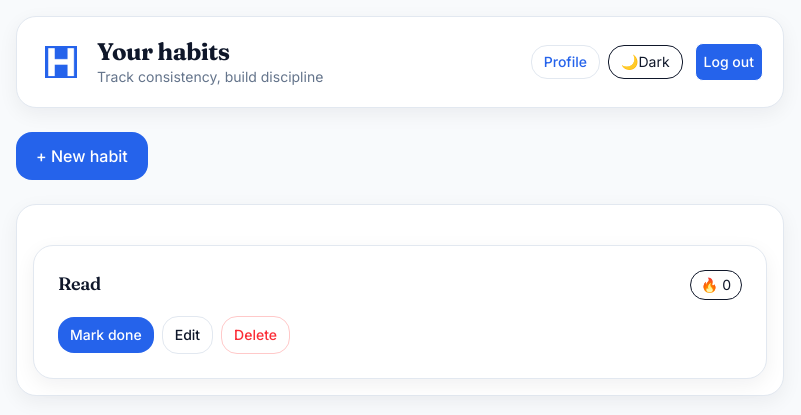
Test case: habit form › toggles completion and updates the streak display
Expected: the text with test id "habit-streak-read" shows "0", [722,276,731,293]
Click the button with test id "habit-complete-read".
click(106, 335)  # box [58,317,154,353]
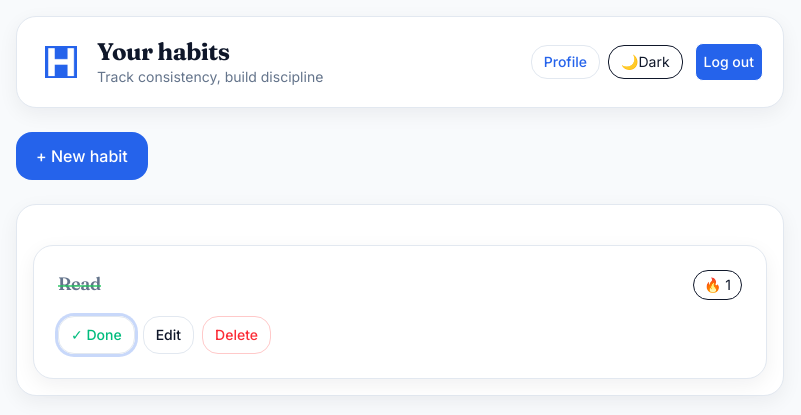
Result: the text with test id "habit-streak-read" shows "1" at [725,276,731,293]
